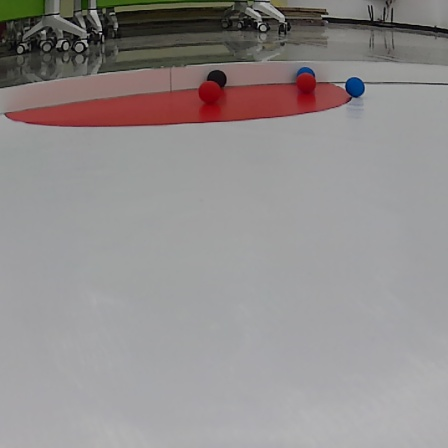black: (204, 68, 228, 88)
blue: (340, 77, 371, 101)
red: (198, 83, 225, 109), (294, 72, 318, 91)
red_base: (17, 85, 351, 131)
